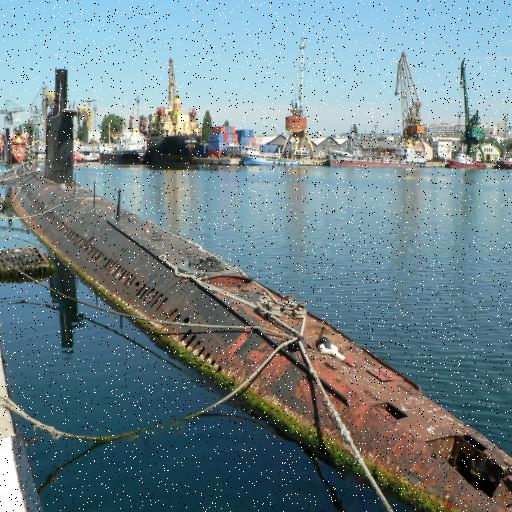submarine: (1, 61, 512, 512)
